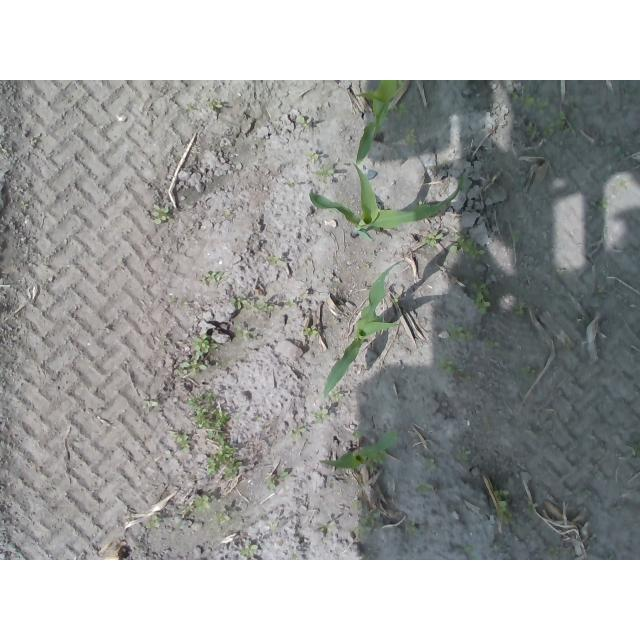Maize: (309, 161, 463, 244), (324, 260, 405, 397), (353, 80, 403, 165), (319, 430, 397, 471)
Weeds: (190, 393, 247, 480), (351, 500, 381, 541), (542, 108, 574, 137), (454, 236, 486, 261), (469, 281, 491, 315), (262, 470, 290, 491), (490, 490, 510, 514), (179, 359, 209, 374), (448, 324, 472, 340), (152, 204, 171, 224), (193, 492, 211, 513), (194, 335, 214, 353), (515, 93, 537, 108), (175, 431, 194, 448), (426, 231, 442, 249), (439, 360, 455, 377), (287, 427, 306, 441), (240, 544, 257, 559), (141, 398, 160, 410), (297, 115, 311, 130), (314, 409, 329, 423), (316, 168, 336, 178), (457, 449, 472, 462), (406, 127, 418, 143), (215, 512, 229, 525), (404, 521, 417, 535), (521, 365, 535, 378), (257, 301, 275, 311), (305, 150, 320, 162), (516, 300, 527, 316), (204, 271, 221, 281), (148, 515, 160, 529), (525, 124, 539, 136), (597, 286, 611, 298), (237, 327, 249, 341), (303, 325, 318, 336), (231, 298, 249, 307), (210, 99, 224, 110), (594, 199, 607, 210), (424, 457, 435, 469), (373, 455, 386, 465), (333, 390, 343, 400), (511, 231, 521, 241), (400, 103, 409, 114)
